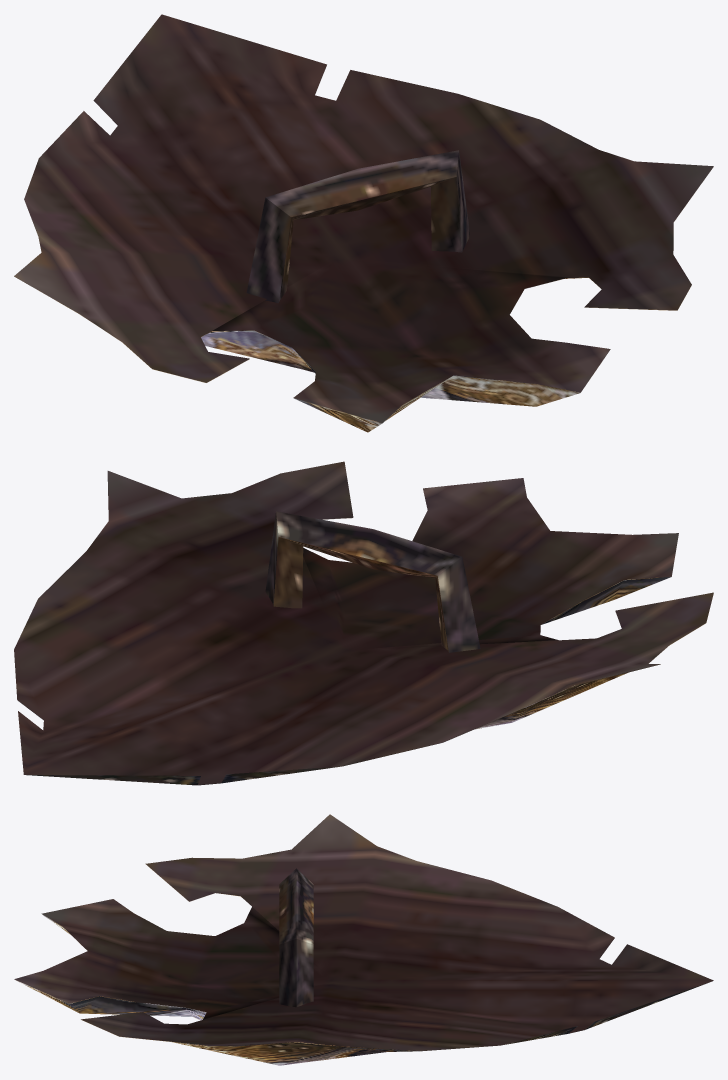
The picture shows the model from 3 angles, top to bottom: view 1: azimuth 30°, elevation 25°; view 2: azimuth 150°, elevation 25°; view 3: azimuth 270°, elevation 25°; orthographic projection. The views are drawn at different scales.
Visible parts, largest first — view 1: i100010; view 2: i100010; view 3: i100010.
Boxes of the visible parts, x1,y1,x2,y2 form: i100010: (14,14,713,432); i100010: (14,461,713,785); i100010: (14,814,713,1065).
Size of the model in its own units: 62.07 by 18.11 by 79.11.
1 material, 1 textured.
